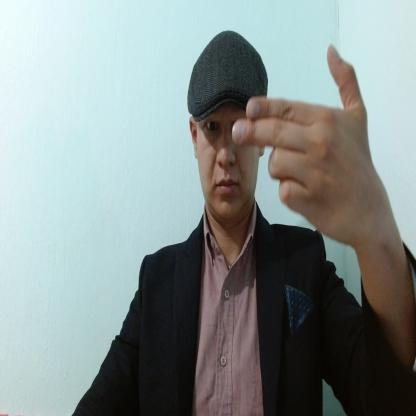H: (231, 45, 371, 249)
